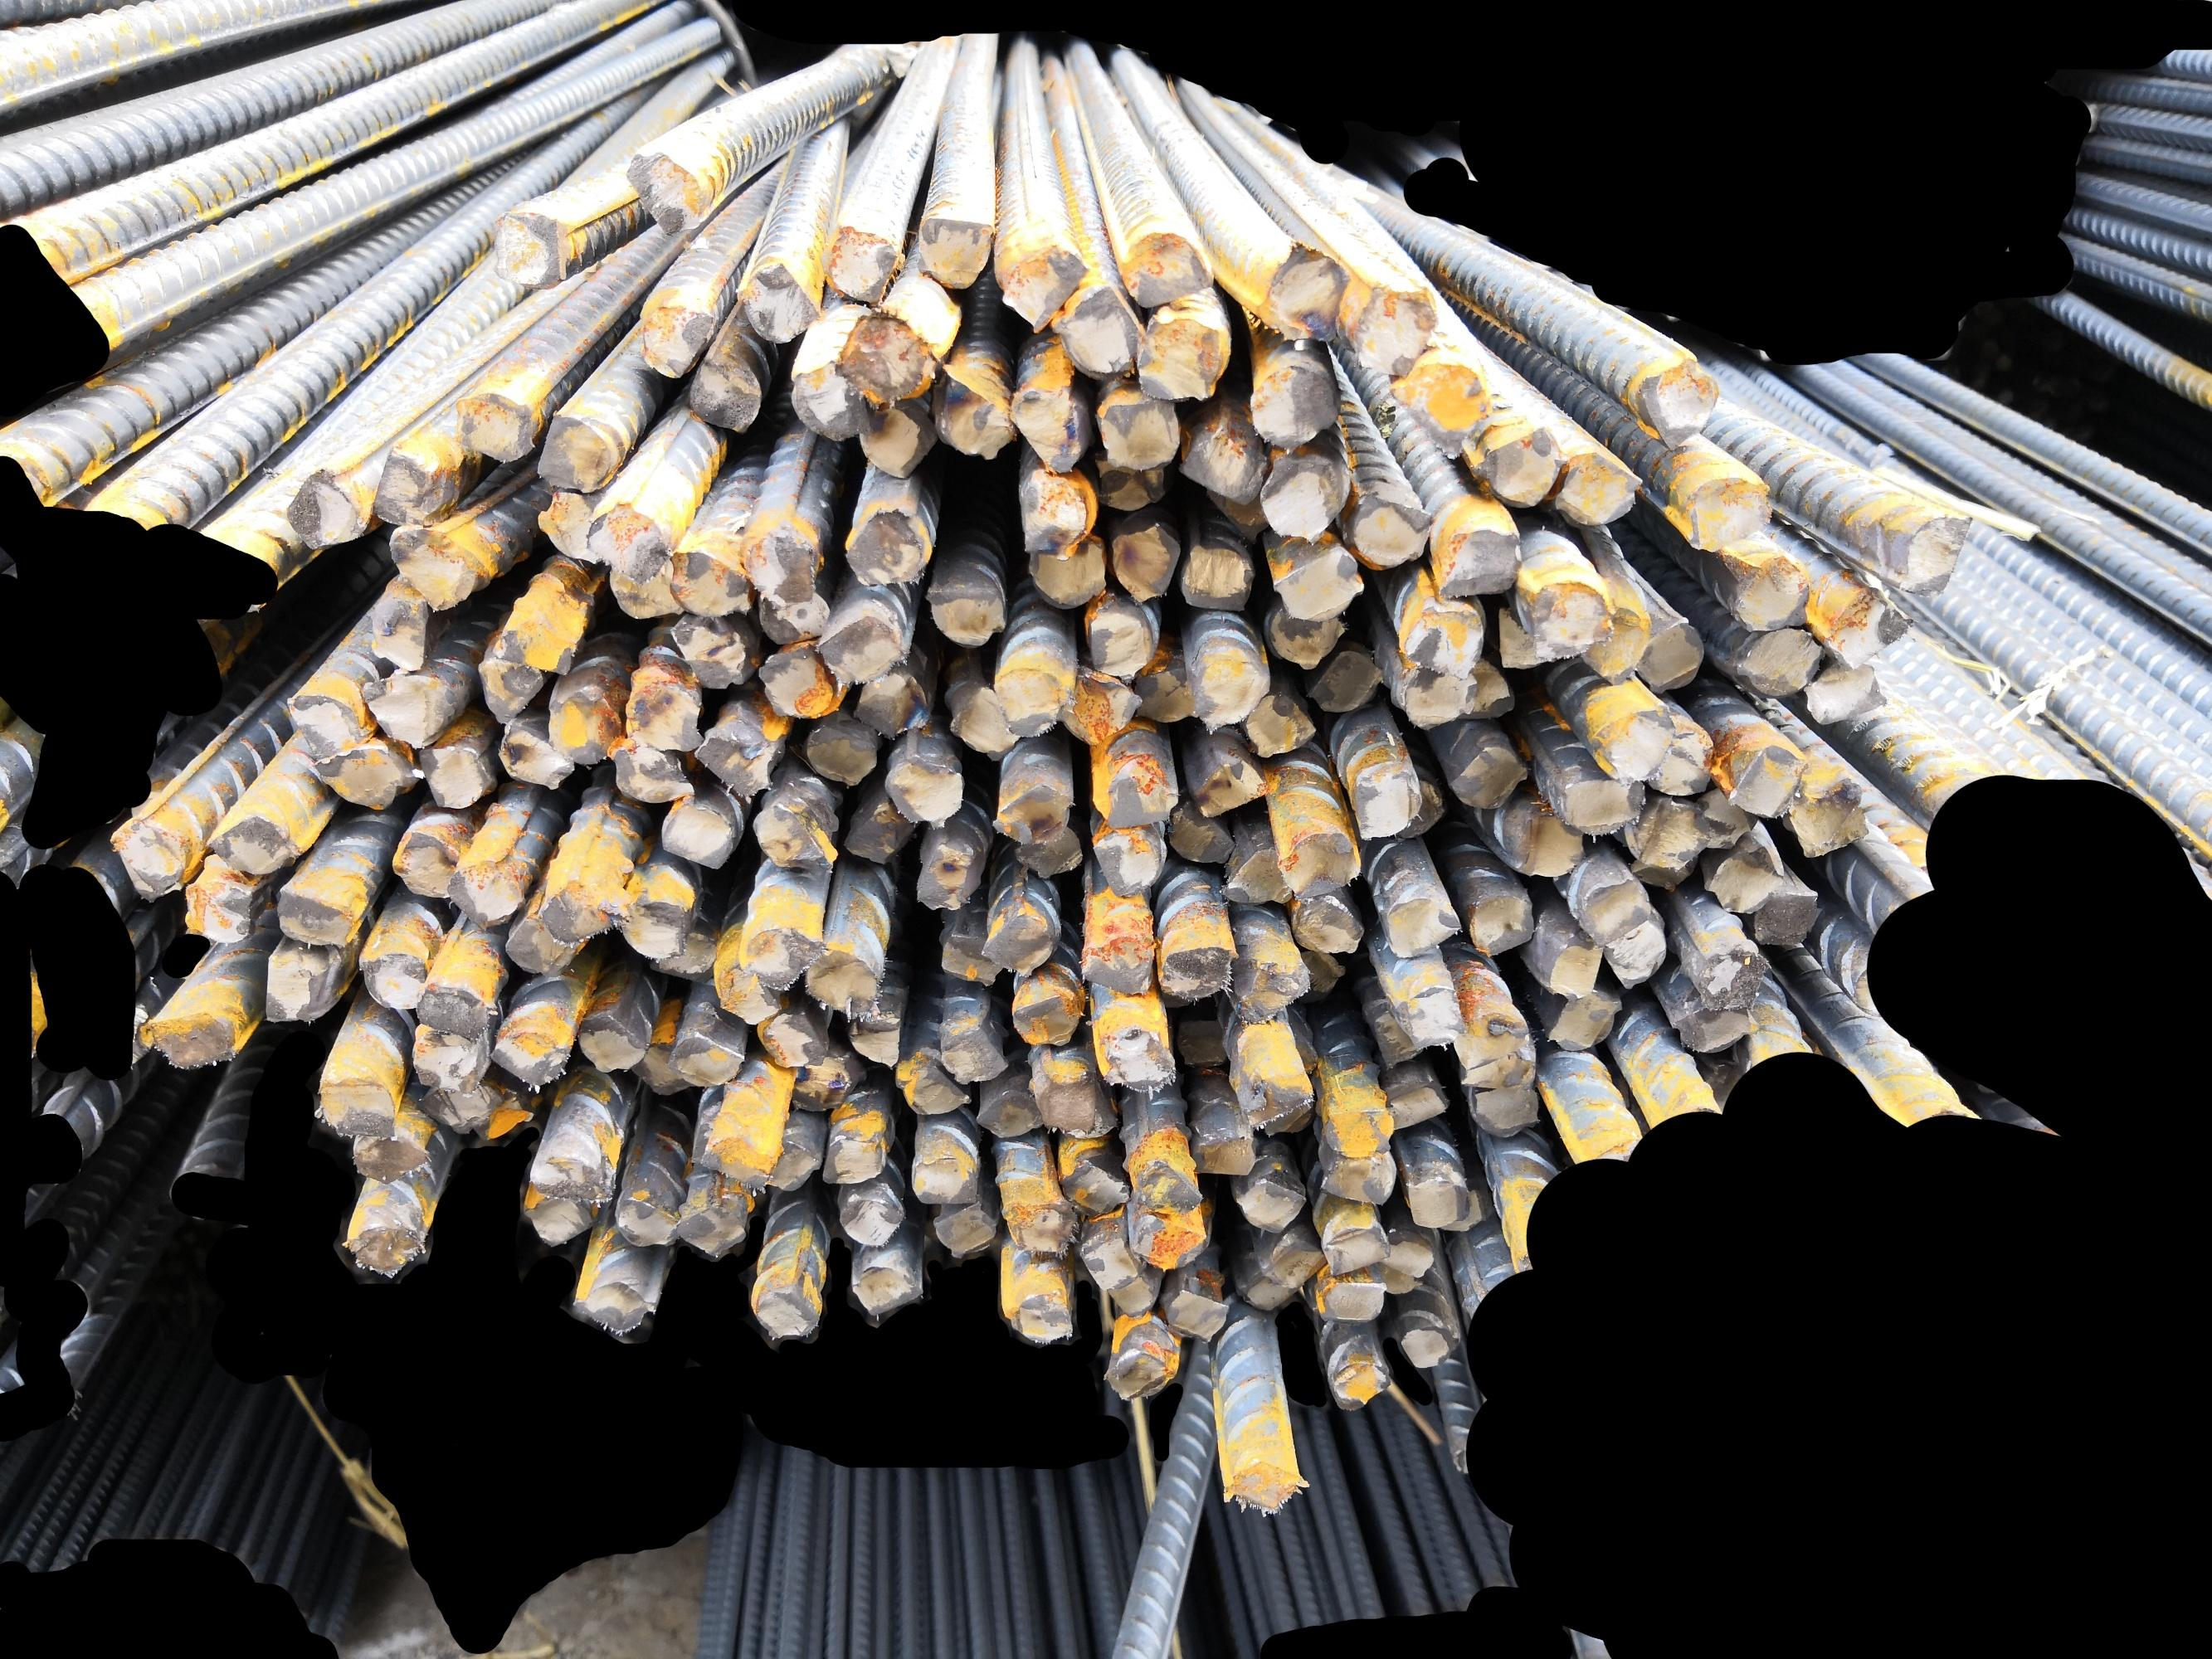bar: (1391, 354, 1489, 460), (838, 310, 940, 406), (1130, 312, 1231, 404), (1260, 240, 1349, 345), (1246, 361, 1342, 455), (1675, 469, 1774, 559), (931, 362, 1020, 464), (1051, 282, 1145, 376), (1089, 380, 1182, 472), (385, 521, 476, 613), (1257, 453, 1349, 544), (1001, 242, 1089, 336), (1468, 423, 1564, 511), (1354, 279, 1436, 376), (1271, 544, 1367, 626), (1642, 352, 1719, 453), (359, 669, 451, 753), (1119, 228, 1213, 308), (1529, 577, 1616, 662), (1823, 582, 1910, 667), (108, 814, 192, 903), (788, 354, 872, 443), (1781, 779, 1872, 861), (624, 148, 706, 237), (586, 500, 669, 586), (842, 509, 933, 587), (305, 1073, 397, 1150), (1013, 465, 1089, 558), (279, 467, 361, 552), (1008, 385, 1086, 474), (755, 643, 844, 721), (1734, 626, 1827, 701), (737, 261, 819, 345), (854, 399, 936, 483), (1555, 450, 1642, 528), (532, 408, 612, 491), (1625, 791, 1710, 870), (1346, 491, 1431, 570), (1177, 430, 1267, 504), (145, 1002, 237, 1073), (741, 521, 819, 605), (1055, 671, 1140, 748), (1435, 526, 1522, 601), (314, 742, 404, 814), (814, 613, 905, 685), (917, 209, 995, 291), (1107, 521, 1184, 605), (1701, 838, 1785, 915), (751, 798, 838, 871), (486, 207, 561, 291), (451, 392, 537, 465), (800, 946, 885, 1019), (267, 882, 356, 951), (1191, 653, 1269, 732), (1729, 556, 1809, 633), (281, 690, 363, 765), (547, 688, 622, 770), (1396, 657, 1478, 732), (1898, 512, 1973, 594), (368, 443, 441, 526), (1079, 1236, 1152, 1319), (1274, 829, 1361, 899), (385, 824, 462, 903), (497, 716, 577, 791), (638, 300, 713, 380), (605, 737, 695, 803), (823, 227, 896, 308), (666, 549, 751, 619), (988, 779, 1074, 849), (206, 812, 295, 878), (1726, 744, 1802, 821), (176, 873, 256, 946), (1401, 606, 1483, 678), (622, 680, 702, 751), (882, 760, 966, 828), (1802, 659, 1886, 727), (1558, 777, 1645, 842), (408, 1023, 485, 1096), (532, 488, 605, 565), (1578, 873, 1654, 946), (1178, 540, 1255, 613), (690, 356, 762, 434), (926, 577, 1004, 648), (1581, 606, 1652, 685), (1450, 742, 1530, 812), (1265, 603, 1347, 671), (1089, 823, 1161, 899), (1234, 957, 1311, 1028), (539, 873, 617, 943), (666, 620, 744, 690), (992, 660, 1062, 737), (1098, 1025, 1175, 1094), (1639, 619, 1708, 695), (1027, 537, 1105, 605), (695, 728, 774, 796), (952, 683, 1020, 762), (444, 861, 525, 927), (1102, 760, 1175, 831), (1239, 690, 1316, 758), (1304, 648, 1381, 716), (854, 673, 933, 739), (741, 924, 819, 990), (488, 1028, 568, 1093), (1543, 992, 1623, 1056), (1602, 918, 1673, 990), (1604, 713, 1677, 782), (659, 802, 734, 870), (415, 744, 492, 810), (802, 720, 879, 786), (1694, 946, 1771, 1012), (699, 1126, 777, 1190), (366, 594, 429, 674), (492, 613, 572, 676), (415, 1079, 502, 1136), (1647, 725, 1717, 796), (842, 798, 915, 866), (1349, 774, 1422, 842), (411, 978, 488, 1042), (1517, 812, 1588, 880), (601, 561, 683, 620), (981, 911, 1055, 978), (755, 1004, 828, 1070), (892, 1051, 967, 1115), (1452, 1009, 1530, 1070), (1382, 897, 1461, 958), (1218, 845, 1297, 906), (342, 1225, 427, 1281), (1088, 605, 1152, 678), (1081, 934, 1154, 999), (502, 917, 577, 979), (1157, 943, 1232, 1006), (668, 1028, 744, 1089), (1035, 1066, 1103, 1134), (1693, 784, 1761, 852), (750, 1274, 819, 1340), (1191, 755, 1260, 821), (910, 840, 974, 911), (256, 962, 329, 1025), (1236, 1173, 1311, 1234), (1290, 894, 1365, 955), (1128, 1216, 1210, 1272), (1672, 1000, 1754, 1056), (617, 901, 689, 964), (1459, 1039, 1541, 1093), (359, 948, 427, 1012), (476, 655, 544, 720), (936, 1023, 1009, 1082), (849, 1258, 922, 1317), (755, 587, 830, 645), (1229, 1457, 1304, 1514), (1001, 1199, 1077, 1255), (1089, 455, 1166, 511), (1468, 892, 1534, 957), (1243, 1073, 1311, 1136), (673, 1202, 744, 1262), (1318, 1154, 1400, 1204), (1014, 823, 1084, 882), (530, 1155, 617, 1202), (577, 1279, 650, 1335), (1365, 1243, 1440, 1297), (790, 1053, 854, 1115), (1750, 889, 1816, 950), (844, 1002, 903, 1070), (1133, 1157, 1201, 1216), (610, 1190, 680, 1248), (1164, 810, 1234, 868), (633, 1035, 695, 1098), (1130, 662, 1192, 725), (940, 927, 1004, 988), (716, 967, 783, 1026), (1009, 1286, 1075, 1345), (523, 1194, 593, 1249), (1009, 990, 1079, 1046), (1496, 603, 1551, 673), (575, 1019, 647, 1073), (1398, 983, 1459, 1046), (1163, 1288, 1229, 1345), (821, 1131, 889, 1187), (352, 1134, 427, 1185), (1318, 1107, 1393, 1157), (910, 1154, 980, 1208), (1471, 1084, 1541, 1138), (1062, 1159, 1130, 1213), (837, 1192, 905, 1246), (976, 1087, 1046, 1140), (1454, 664, 1518, 720), (650, 927, 716, 981), (1321, 1225, 1388, 1279), (931, 1206, 999, 1258), (1550, 939, 1605, 1002), (1107, 1347, 1171, 1401), (763, 1134, 823, 1192), (1370, 1007, 1424, 1070), (1407, 1176, 1471, 1229), (1206, 486, 1271, 538), (1330, 1358, 1389, 1413), (1288, 948, 1347, 1004), (1168, 1014, 1229, 1068), (1316, 1277, 1386, 1324), (1389, 777, 1443, 836), (1384, 1082, 1447, 1131), (1260, 1246, 1325, 1293), (1191, 1134, 1255, 1176), (1438, 1182, 1490, 1232), (1241, 1265, 1293, 1312), (1400, 1324, 1452, 1370), (1630, 854, 1698, 889)
